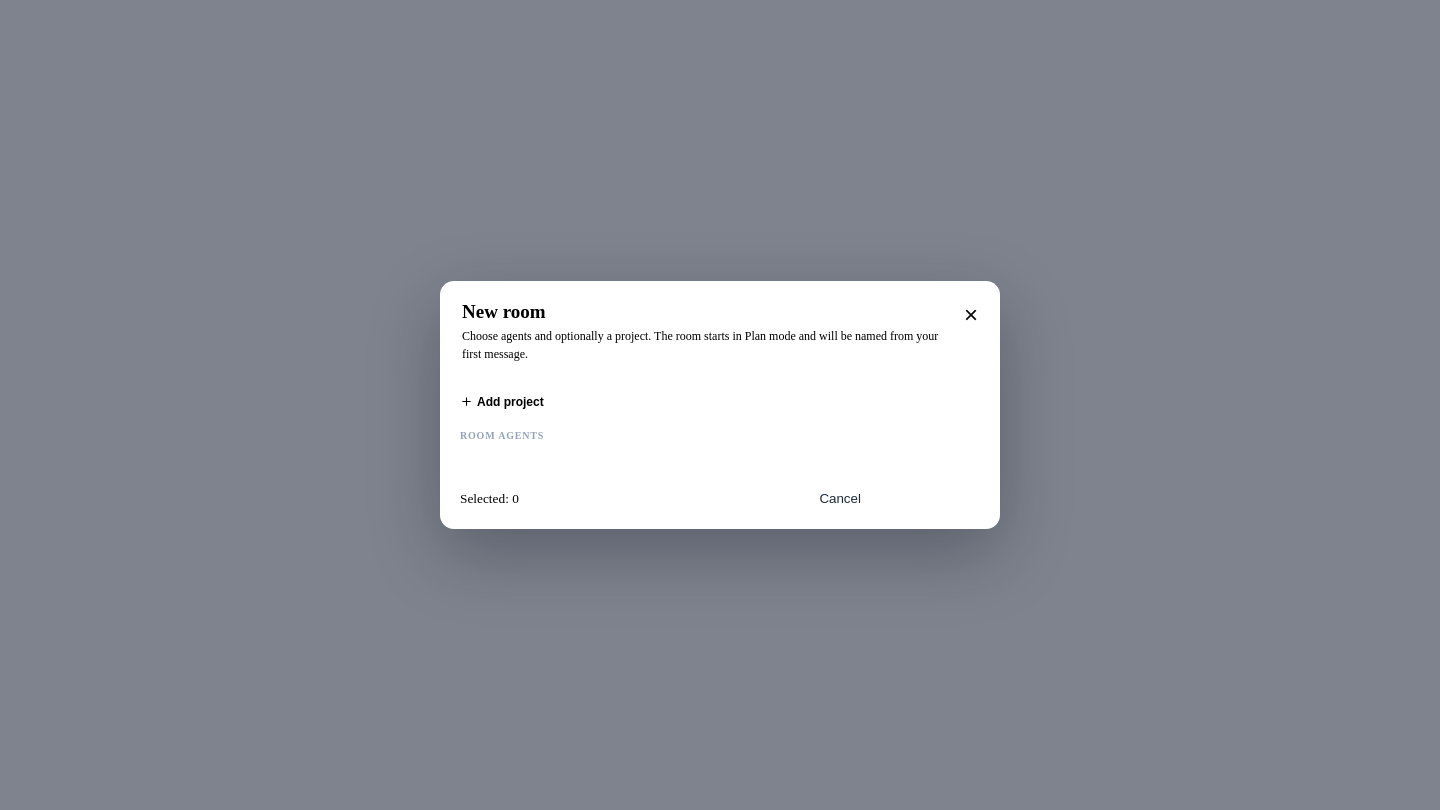
room agent pickers › reveals the optional project field on demand
Click the button "Add project": [502, 402] box [460,394,544,410]
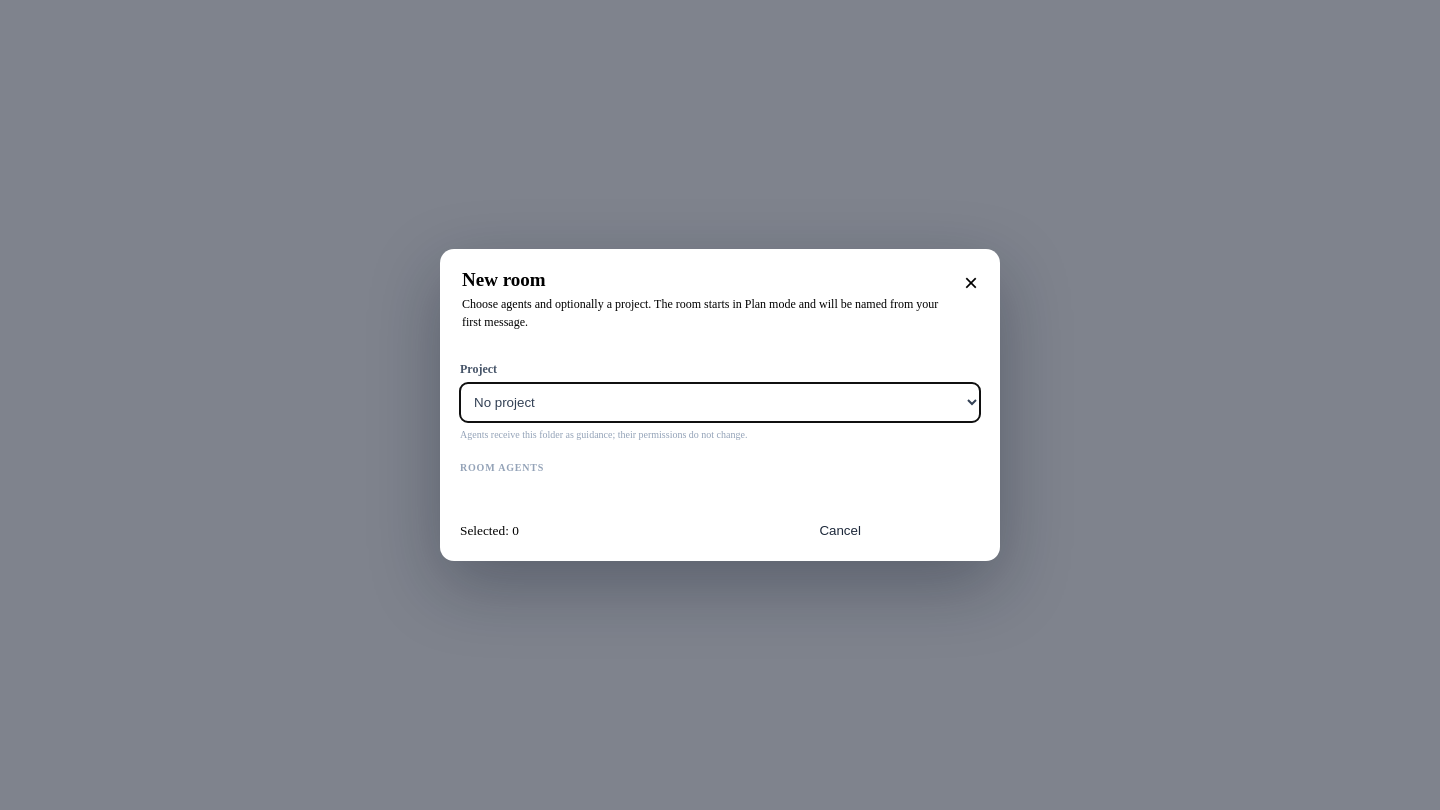
Expected: the dropdown labelled "Project" is shown, [460,383,980,422]
